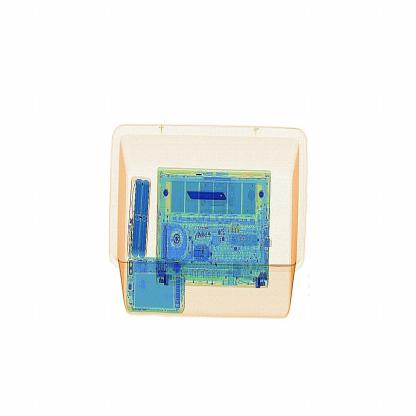pliers: (182, 182, 233, 210)
